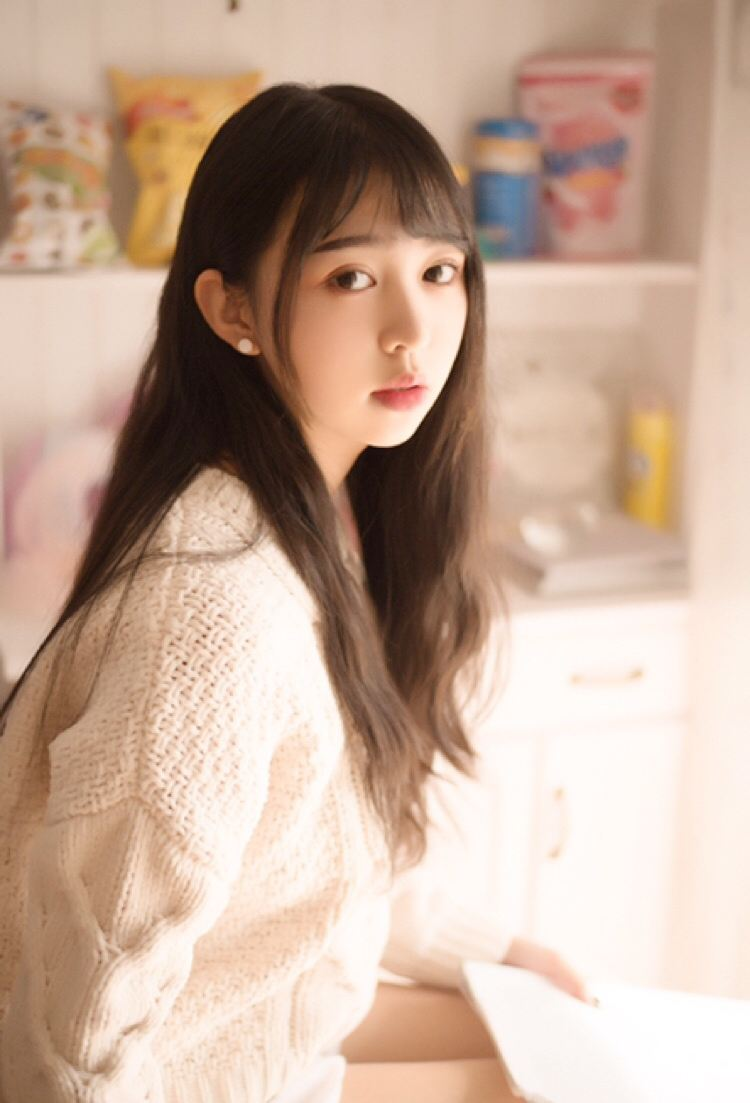person: (95, 98, 596, 1103)
